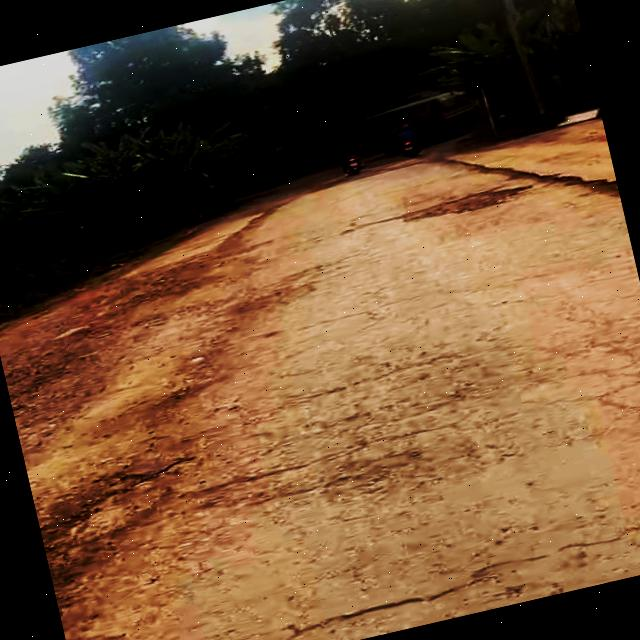pothole: (400, 180, 529, 227)
